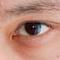eye: (25, 23, 41, 35)
